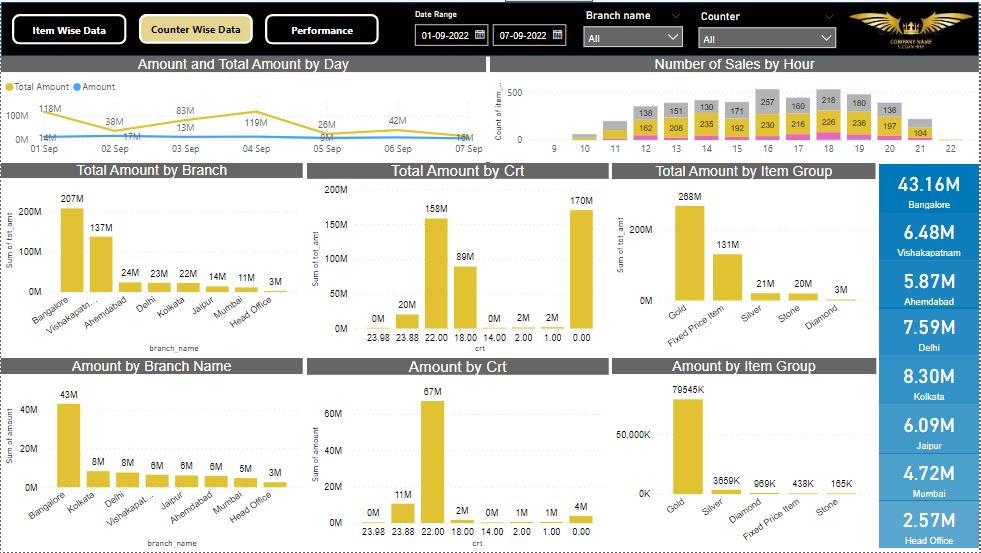

What the dashboard file says about the page in this screenshot:
{"tool":"powerbi","page":{"name":"Counter","canvas":[1280,720],"ordinal":1},"visuals":[{"type":"shape","title":"Header Background","box":[0,0,1280,70.6],"z":0},{"type":"actionButton","title":"Item wise Data Button","box":[15,15.1,149.5,40.3],"z":1000},{"type":"actionButton","title":"Item wise Data Button","box":[180,15.4,148.7,39.3],"z":2000},{"type":"slicer","title":"Branch Name Slicer","fields":{"Values":["Sales_Data.branch_name"]},"box":[753.1,4.3,149.8,59],"z":3000},{"type":"slicer","title":"Counter Slicer","fields":{"Values":["Sales_Data.name_3"]},"box":[902.9,5.8,200.2,59],"z":4000},{"type":"clusteredColumnChart","title":"Total Amount by Branch","fields":{"Category":["Sales_Data.branch_name"],"Y":["Sum(Sales_Data.tot_amt)"]},"box":[0,209.8,395,255.4],"z":5000},{"type":"actionButton","title":"Item wise Data Button","box":[345,15.8,149.2,40.4],"z":6000},{"type":"clusteredColumnChart","title":"Amount by Branch Name","fields":{"Category":["Sales_Data.branch_name"],"Y":["Sum(Sales_Data.amount)"]},"box":[0,466.6,394.6,253.4],"z":7000},{"type":"clusteredColumnChart","title":"Amount by Crt","fields":{"Y":["Sum(Sales_Data.amount)"],"Category":["Sales_Data.crt"]},"box":[400.3,466.6,394.6,253.4],"z":8000},{"type":"columnChart","title":"Total Amount by Crt","fields":{"Category":["Sales_Data.crt"],"Y":["Sum(Sales_Data.tot_amt)"]},"box":[400.3,208.8,394.6,254.9],"z":9000},{"type":"clusteredColumnChart","title":"Total Amount by Item Group","fields":{"Y":["Sum(Sales_Data.tot_amt)"],"Category":["Sales_Data.item_group_name"]},"box":[799.7,210.6,345,256],"z":10000},{"type":"clusteredColumnChart","title":"Amount by Item Group","fields":{"Category":["Sales_Data.item_group_name"],"Y":["Sum(Sales_Data.amount)"]},"box":[799.2,466.6,345.6,253.4],"z":11000},{"type":"lineChart","title":"Amount and Total Amount by Day","fields":{"Y":["Sum(Sales_Data.tot_amt)","Sum(Sales_Data.amount)"],"Category":["Sales_Data.DateTime.Variation.Date Hierarchy.Year","Sales_Data.DateTime.Variation.Date Hierarchy.Quarter","Sales_Data.DateTime.Variation.Date Hierarchy.Month","Sales_Data.DateTime.Variation.Date Hierarchy.Day"]},"box":[0,70.1,635,140.1],"z":12000},{"type":"columnChart","title":"Number of Sales by Hour","fields":{"Category":["Sales_Data.Hour"],"Y":["CountNonNull(Sales_Data.item_group_name)"],"Series":["Sales_Data.item_group_name"]},"box":[640,70.2,640,140.4],"z":13000},{"type":"slicer","title":"Branch Name Slicer","fields":{"Values":["Sales_Data.dt"]},"box":[528.5,5.8,224.6,60.5],"z":14000},{"type":"card","fields":{"Values":["Sum(Sales_Data.amount)"]},"box":[1149,211.7,131,63.8],"z":15000},{"type":"card","fields":{"Values":["Sum(Sales_Data.amount)"]},"box":[1149,275.5,131,63.8],"z":16000},{"type":"card","fields":{"Values":["Sum(Sales_Data.amount)"]},"box":[1148.9,338.4,131,63.4],"z":17000},{"type":"card","fields":{"Values":["Sum(Sales_Data.amount)"]},"box":[1149,399.8,131,63.8],"z":18000},{"type":"card","fields":{"Values":["Sum(Sales_Data.amount)"]},"box":[1149,463.6,131,63.8],"z":19000},{"type":"card","fields":{"Values":["Sum(Sales_Data.amount)"]},"box":[1149,527.5,131,63.8],"z":20000},{"type":"card","fields":{"Values":["Sum(Sales_Data.amount)"]},"box":[1148.9,590.4,131,63.4],"z":21000},{"type":"card","fields":{"Values":["Sum(Sales_Data.amount)"]},"box":[1148.9,652.3,131,63.4],"z":22000},{"type":"image","box":[1102.9,0,177.1,70.6],"z":22001}]}

Visuals, with their boxes in screenshot pixels (x1, y1, x2, y2), scaled from the page's 1280x720 canvas onto the 981x553 screenshot:
"Header Background" shape: {"left": 0, "top": 0, "right": 980, "bottom": 54}
"Item wise Data Button" actionButton: {"left": 11, "top": 12, "right": 126, "bottom": 43}
"Item wise Data Button" actionButton: {"left": 138, "top": 12, "right": 252, "bottom": 42}
"Branch Name Slicer" slicer: {"left": 577, "top": 3, "right": 692, "bottom": 49}
"Counter Slicer" slicer: {"left": 692, "top": 4, "right": 845, "bottom": 50}
"Total Amount by Branch" clusteredColumnChart: {"left": 0, "top": 161, "right": 303, "bottom": 357}
"Item wise Data Button" actionButton: {"left": 264, "top": 12, "right": 379, "bottom": 43}
"Amount by Branch Name" clusteredColumnChart: {"left": 0, "top": 358, "right": 302, "bottom": 552}
"Amount by Crt" clusteredColumnChart: {"left": 307, "top": 358, "right": 609, "bottom": 552}
"Total Amount by Crt" columnChart: {"left": 307, "top": 160, "right": 609, "bottom": 356}
"Total Amount by Item Group" clusteredColumnChart: {"left": 613, "top": 162, "right": 877, "bottom": 358}
"Amount by Item Group" clusteredColumnChart: {"left": 613, "top": 358, "right": 877, "bottom": 552}
"Amount and Total Amount by Day" lineChart: {"left": 0, "top": 54, "right": 487, "bottom": 161}
"Number of Sales by Hour" columnChart: {"left": 490, "top": 54, "right": 980, "bottom": 162}
"Branch Name Slicer" slicer: {"left": 405, "top": 4, "right": 577, "bottom": 51}
card - Sum(Sales_Data.amount): {"left": 881, "top": 163, "right": 980, "bottom": 212}
card - Sum(Sales_Data.amount): {"left": 881, "top": 212, "right": 980, "bottom": 261}
card - Sum(Sales_Data.amount): {"left": 881, "top": 260, "right": 980, "bottom": 309}
card - Sum(Sales_Data.amount): {"left": 881, "top": 307, "right": 980, "bottom": 356}
card - Sum(Sales_Data.amount): {"left": 881, "top": 356, "right": 980, "bottom": 405}
card - Sum(Sales_Data.amount): {"left": 881, "top": 405, "right": 980, "bottom": 454}
card - Sum(Sales_Data.amount): {"left": 881, "top": 453, "right": 980, "bottom": 502}
card - Sum(Sales_Data.amount): {"left": 881, "top": 501, "right": 980, "bottom": 550}
image: {"left": 845, "top": 0, "right": 980, "bottom": 54}
